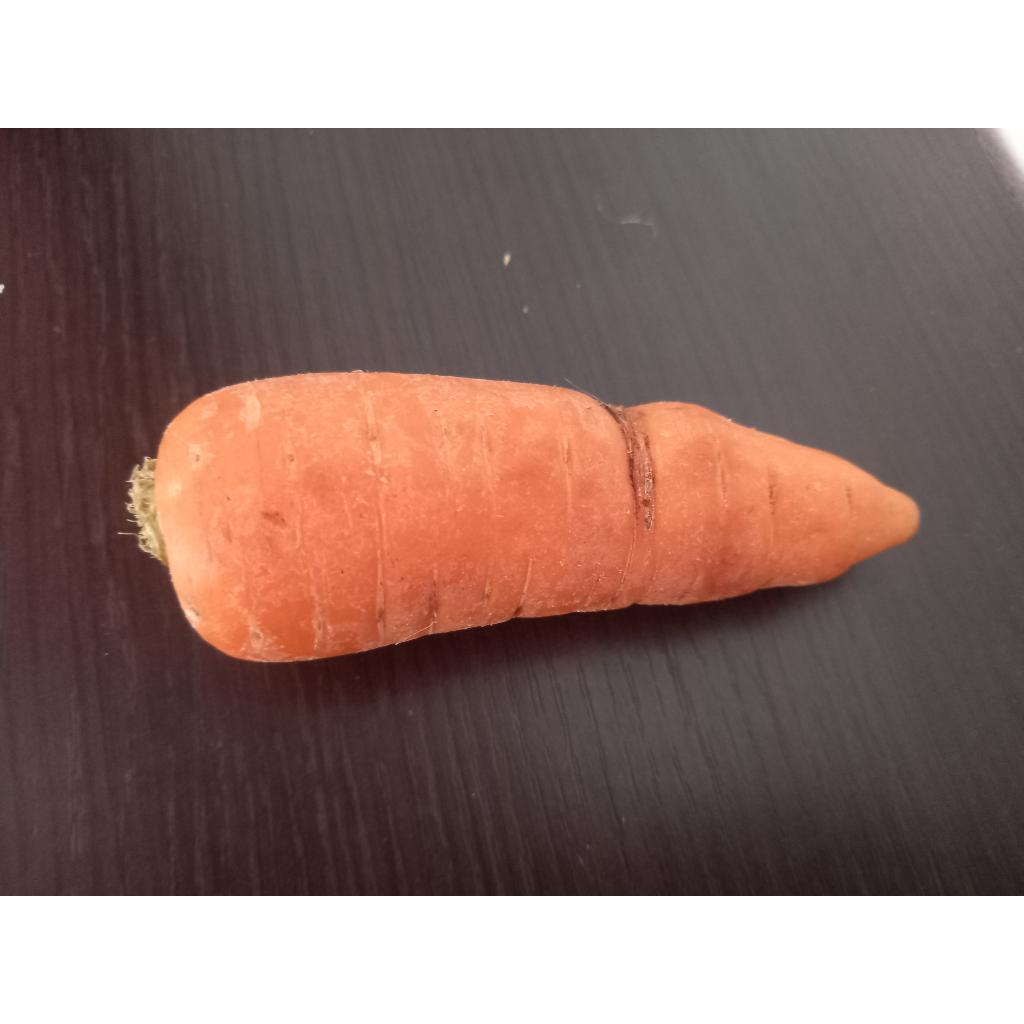carrot: (132, 372, 918, 662)
